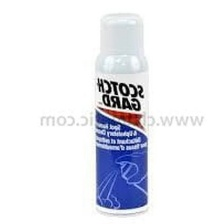aerosol_cans: (89, 8, 156, 221)
